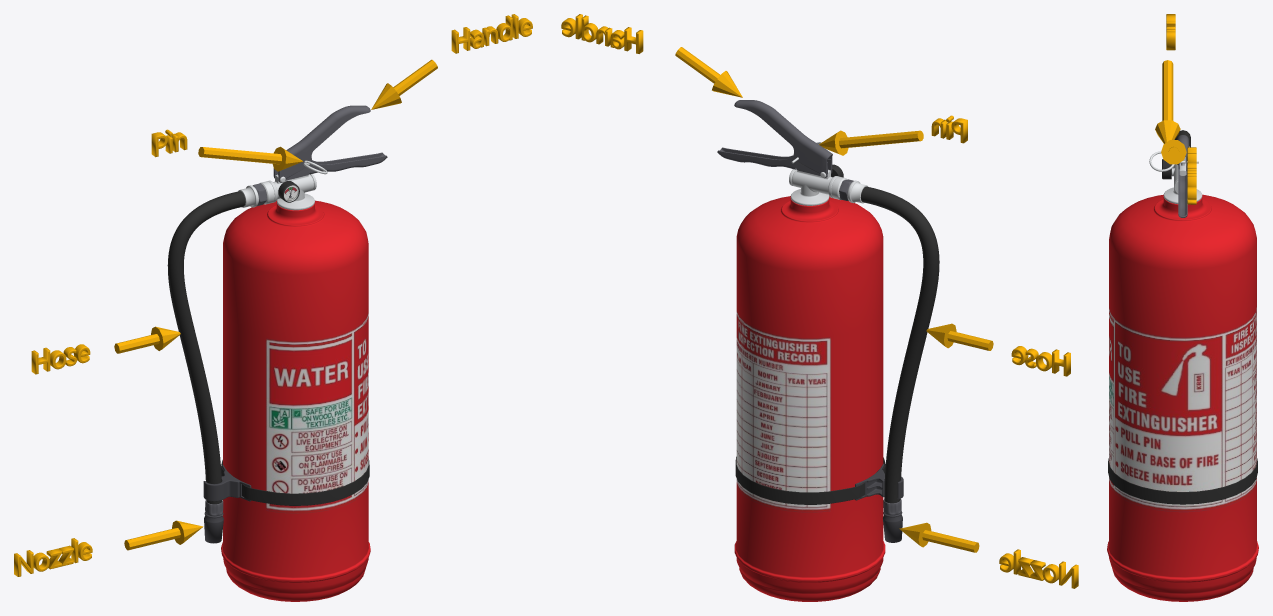
Rendered from FireExtinguisher3D.glb.
3 renders of one model, left to right at view 1: azimuth 30°, elevation 25°; view 2: azimuth 150°, elevation 25°; view 3: azimuth 270°, elevation 25°, orthographic.
Parts seen in each view (by area): view 1: Fire extinguisher, Label_Trigger, Label_Nozzle, Arrow_Pin, Label_Hose, Arrow_Nozzle, Arrow_Trigger, Arrow_Hose, Label_Pin; view 2: Fire extinguisher, Label_Trigger, Label_Nozzle, Arrow_Pin, Label_Hose, Arrow_Nozzle, Arrow_Trigger, Arrow_Hose, Label_Pin; view 3: Fire extinguisher, Arrow_Pin, Label_Trigger, Arrow_Trigger, Label_Pin.
Boxes of the visible parts, x1=… form: Fire extinguisher: x1=167, y1=105, x2=387, y2=601; Label_Trigger: x1=451, y1=14, x2=532, y2=53; Label_Nozzle: x1=14, y1=538, x2=92, y2=576; Arrow_Pin: x1=198, y1=146, x2=302, y2=171; Label_Hose: x1=31, y1=344, x2=90, y2=374; Arrow_Nozzle: x1=124, y1=520, x2=203, y2=550; Arrow_Trigger: x1=371, y1=59, x2=437, y2=109; Arrow_Hose: x1=114, y1=326, x2=180, y2=353; Label_Pin: x1=151, y1=129, x2=187, y2=157; Fire extinguisher: x1=717, y1=100, x2=939, y2=601; Label_Trigger: x1=561, y1=14, x2=643, y2=53; Label_Nozzle: x1=999, y1=549, x2=1078, y2=588; Arrow_Pin: x1=819, y1=130, x2=923, y2=155; Label_Hose: x1=1011, y1=346, x2=1070, y2=376; Arrow_Nozzle: x1=899, y1=522, x2=979, y2=552; Arrow_Trigger: x1=675, y1=47, x2=742, y2=97; Arrow_Hose: x1=926, y1=323, x2=993, y2=350; Label_Pin: x1=931, y1=115, x2=967, y2=143; Fire extinguisher: x1=1107, y1=130, x2=1258, y2=601; Arrow_Pin: x1=1155, y1=60, x2=1180, y2=143; Label_Trigger: x1=1187, y1=147, x2=1196, y2=204; Arrow_Trigger: x1=1161, y1=140, x2=1186, y2=164; Label_Pin: x1=1166, y1=14, x2=1175, y2=50.
Size of what is drawn, in the model's own units: 2.8 by 2.64 by 0.7105.
8 materials, 2 textured.
